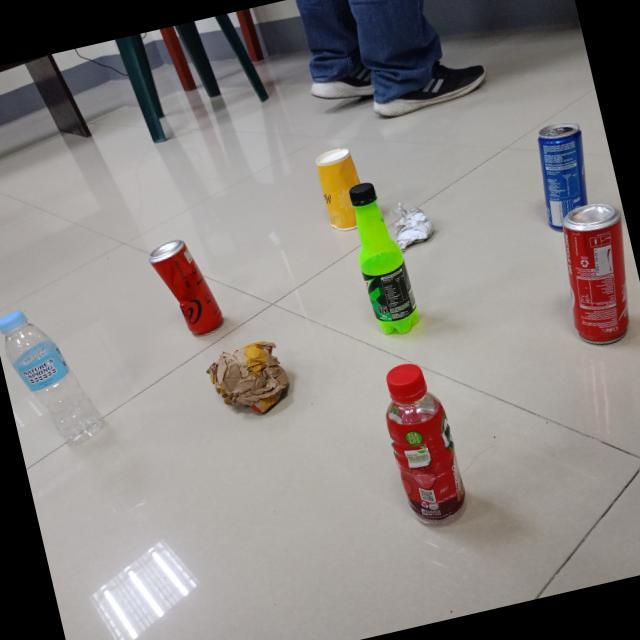recyclable waste: (364, 346, 481, 540), (0, 286, 116, 467), (332, 166, 431, 346), (540, 191, 640, 357), (138, 222, 234, 350), (517, 110, 610, 242), (195, 326, 302, 429), (306, 137, 377, 240), (377, 188, 442, 258)
